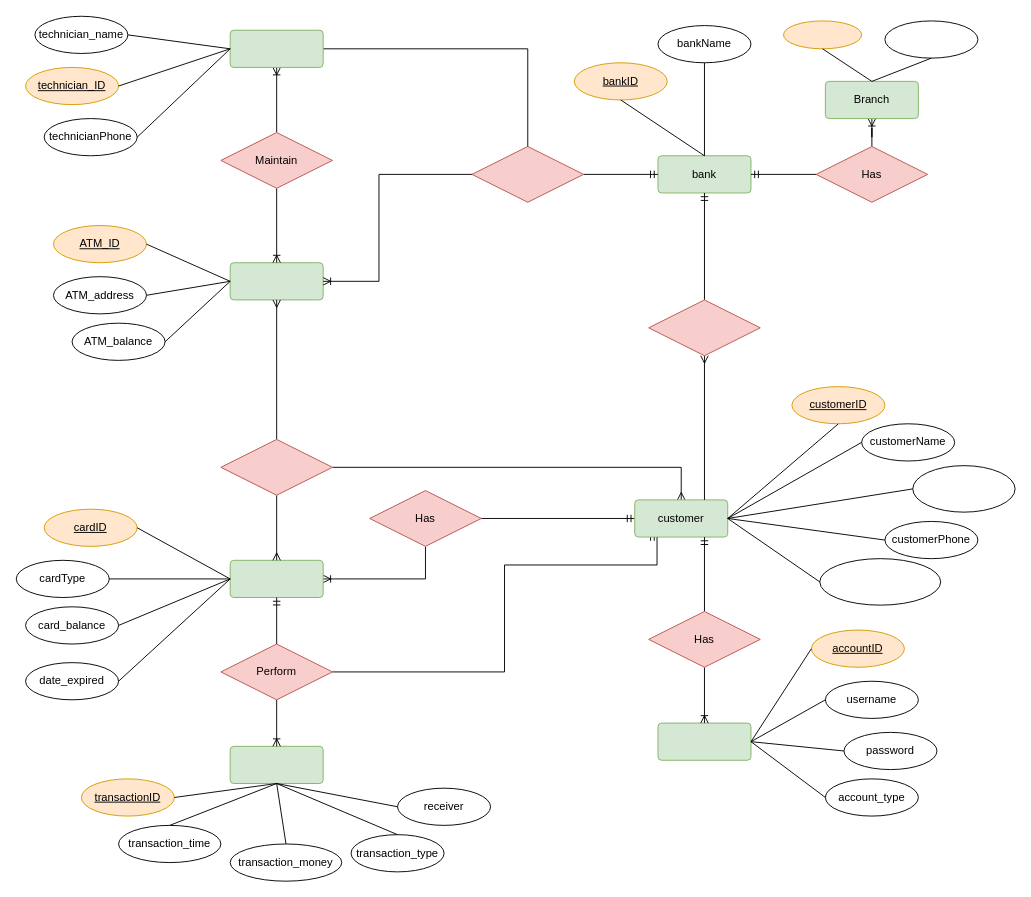
The diagram is 1031 pixels wide and 897 high, and some of its shapes have lost their labels. Each missing label, with the box of its shape:
account: (657, 722, 751, 760)
ATM: (229, 262, 323, 300)
Belong to: (471, 146, 584, 202)
branch_address: (884, 20, 978, 58)
branchID: (783, 20, 862, 49)
card: (229, 559, 323, 598)
customterAddress: (912, 465, 1015, 512)
identification_number: (819, 558, 941, 605)
Manage: (648, 299, 760, 356)
technician: (229, 29, 323, 67)
transaction: (229, 745, 323, 784)
Withdraw: (220, 438, 332, 495)
